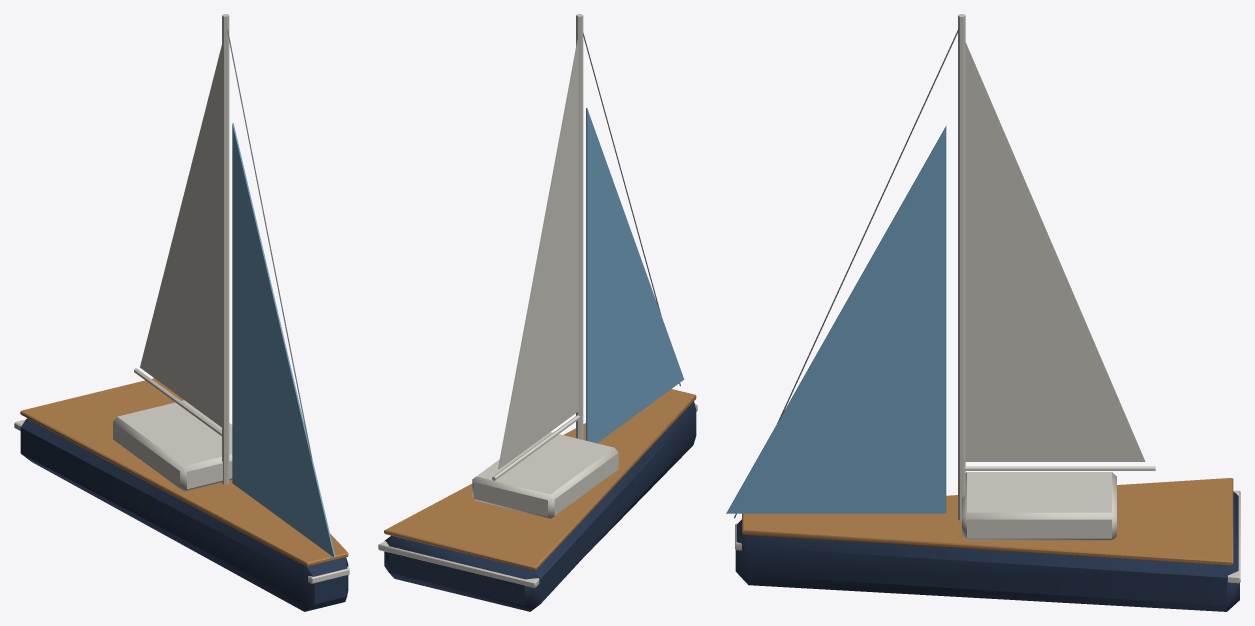
Rendered from 147_voilier.fbx.
3 views of the same model, side by side, from view 1: azimuth 30°, elevation 25°; view 2: azimuth 150°, elevation 25°; view 3: azimuth 270°, elevation 25° (orthographic). The views are drawn at different scales.
Parts seen in each view (by area): view 1: Voiles, Coque, Mat; view 2: Voiles, Coque, Mat; view 3: Voiles, Coque, Mat.
Boxes of the visible parts, <box> form: Voiles: <box>140,29,335,559</box>; Coque: <box>14,378,349,611</box>; Mat: <box>134,14,229,484</box>; Voiles: <box>498,33,684,469</box>; Coque: <box>378,389,697,611</box>; Mat: <box>492,14,583,480</box>; Voiles: <box>726,30,1145,518</box>; Coque: <box>735,472,1240,611</box>; Mat: <box>958,14,1155,520</box>.
Bounding box in the file's own units: 2.24 × 6.72 × 5.6.
Materials: 1 (1 with a texture image).
